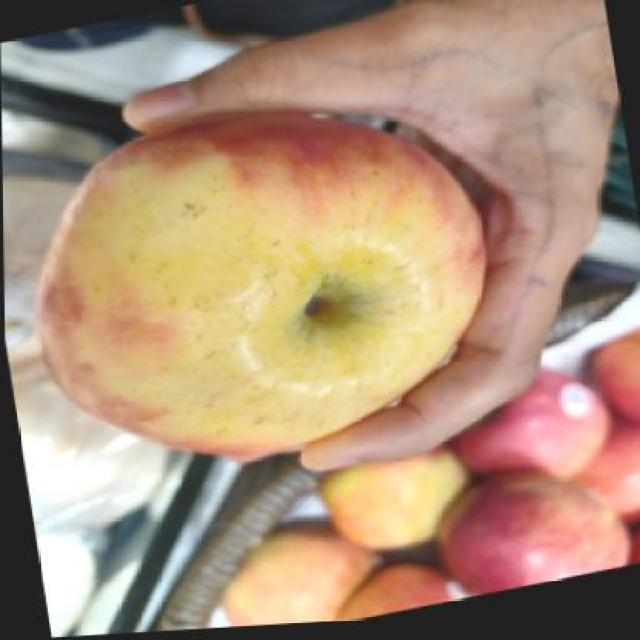Fresh Apple: (32, 97, 502, 448)
